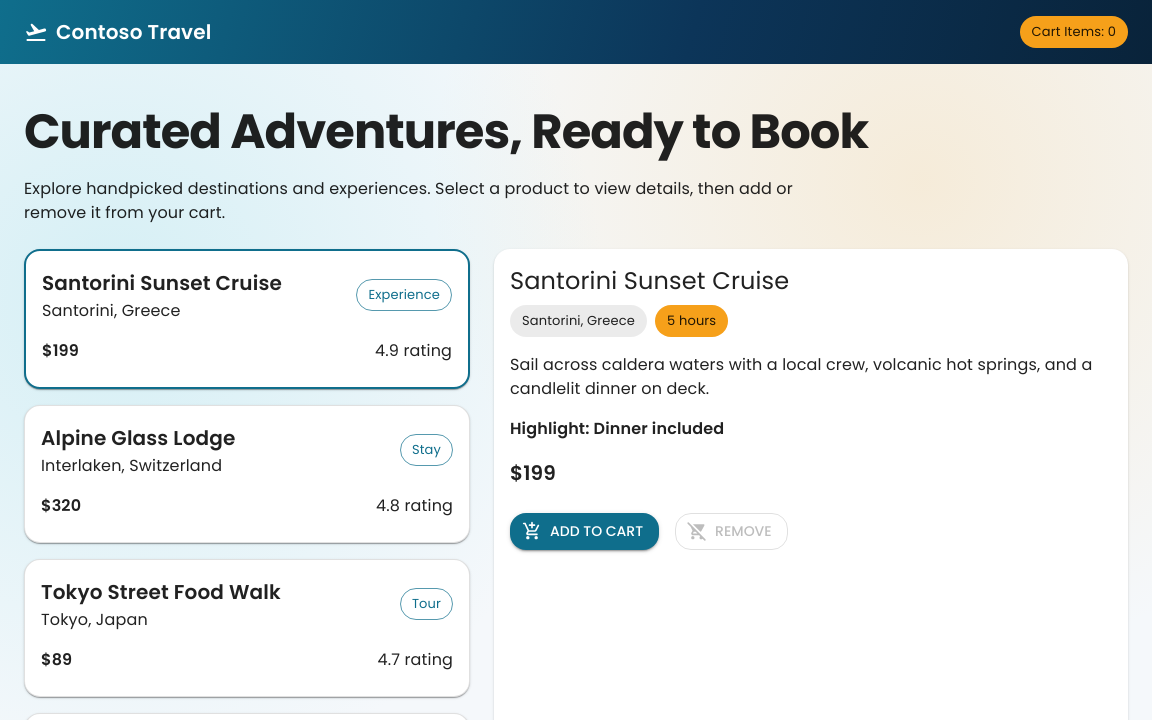
Test: Contoso Travel app › removes items from cart and disables remove when quantity is zero
The width and height of the screenshot is (1152, 720).
Expected: the button "Remove" is disabled, [675, 513, 788, 550]
Click the button "Add to Cart": (585, 531) [510, 513, 659, 550]
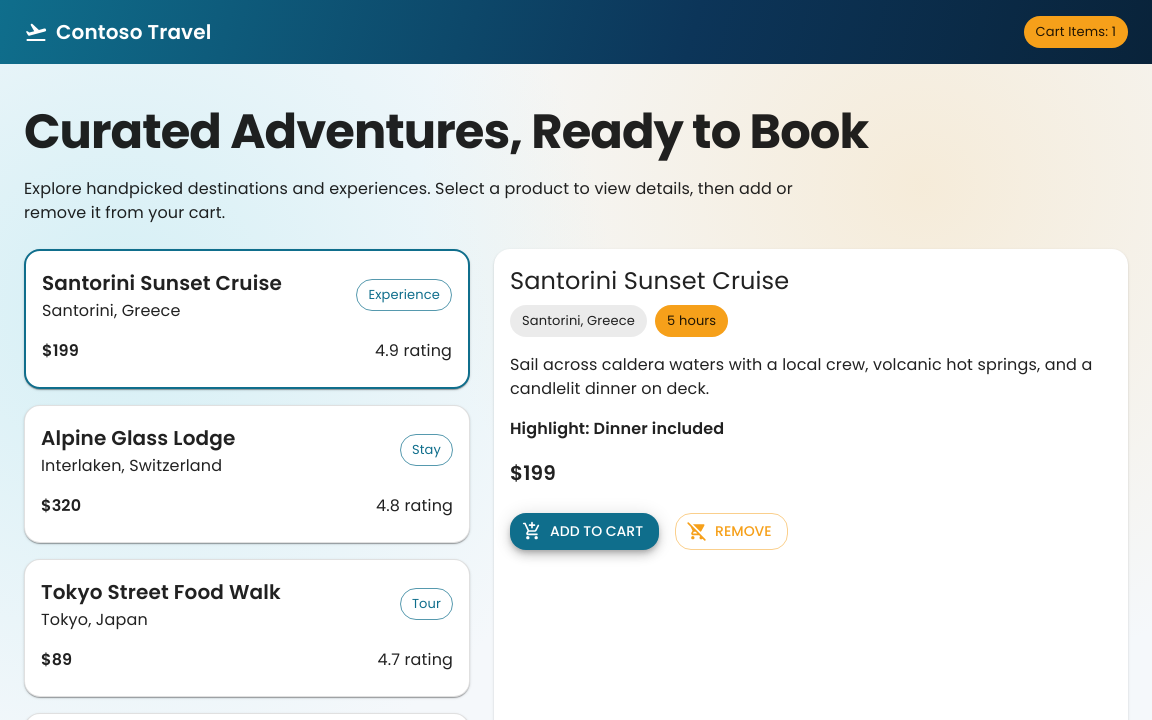
Result: the button "Remove" is enabled
Click the button "Remove": (731, 531) [675, 513, 788, 550]
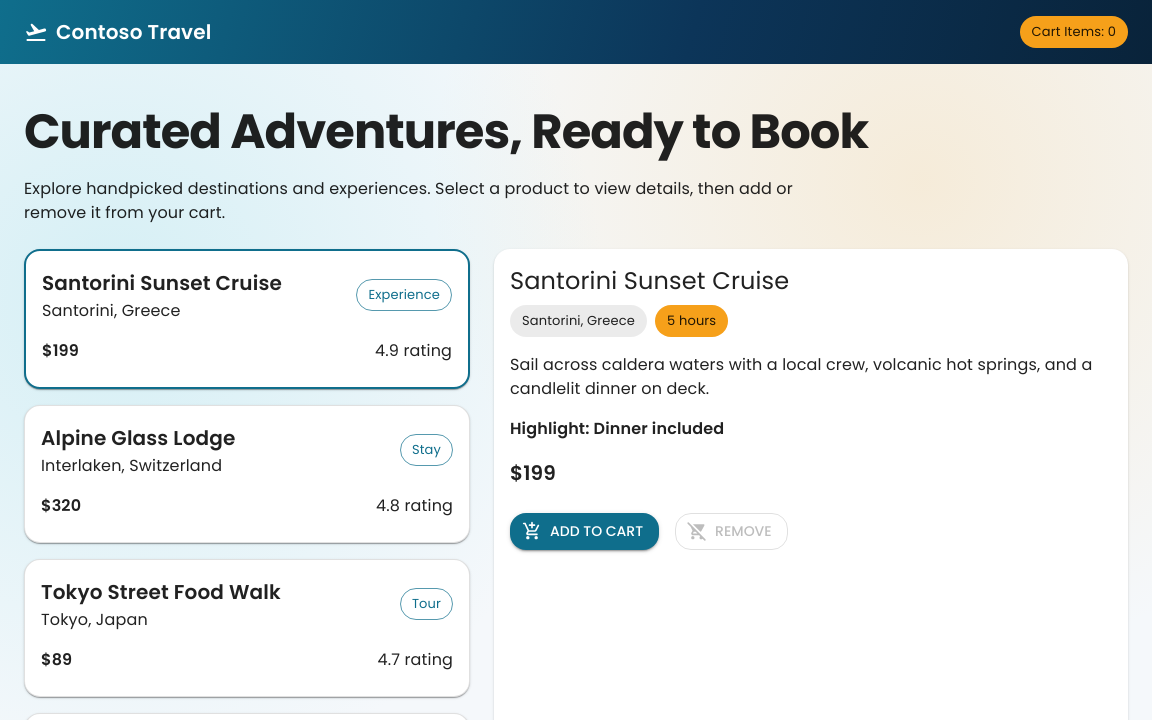
Result: the text "Cart Items: 0" is shown at [1032, 22, 1116, 41]
Result: the button "Remove" is disabled at [675, 513, 788, 550]
